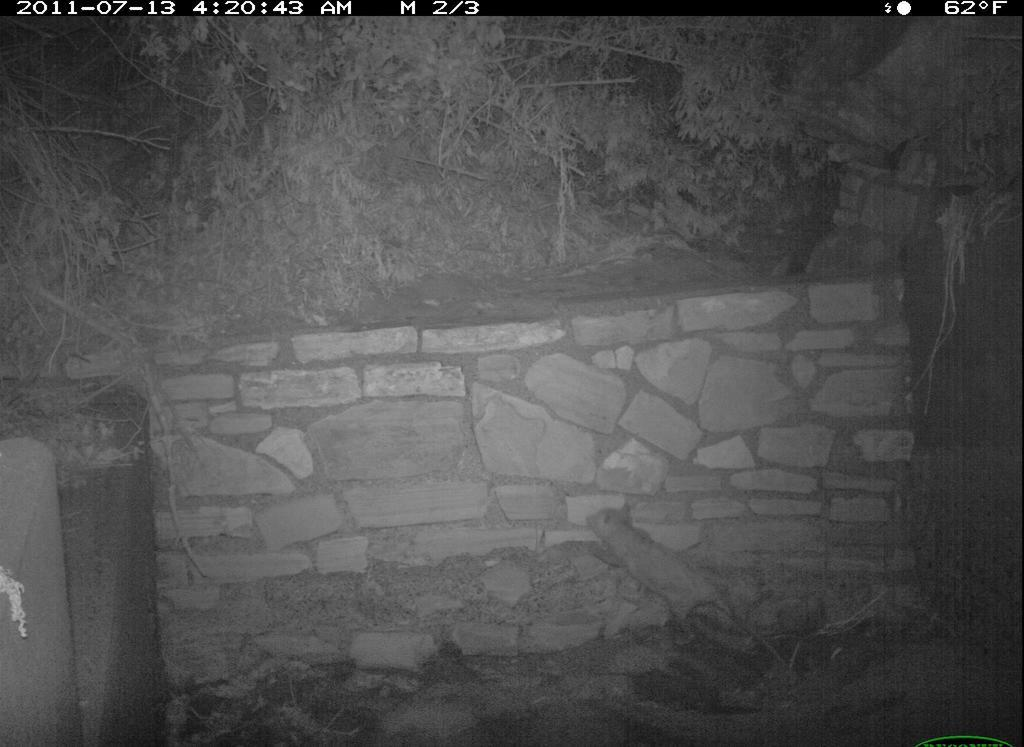opossum: (580, 497, 802, 679)
